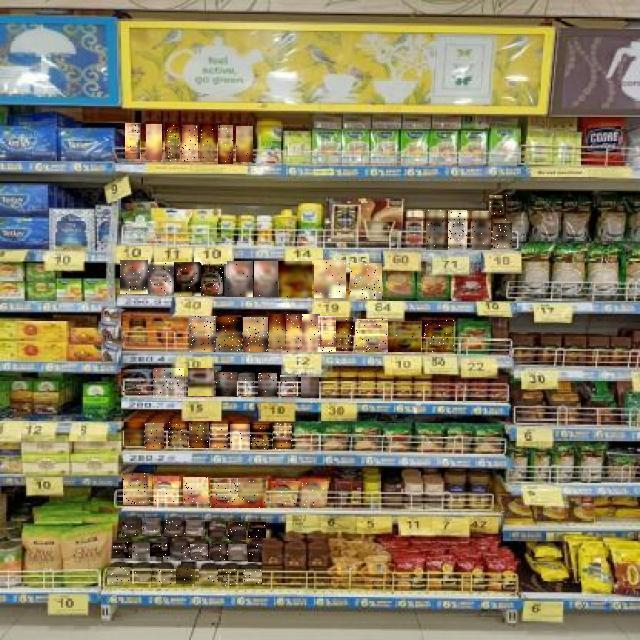Coffee: (314, 260, 346, 298), (279, 261, 312, 297), (350, 263, 382, 299), (355, 319, 388, 352), (423, 320, 455, 352), (189, 316, 217, 352), (388, 322, 421, 352), (120, 261, 148, 295), (116, 369, 150, 397), (227, 261, 253, 297), (153, 368, 184, 398), (174, 262, 201, 296), (216, 317, 242, 352), (124, 473, 152, 505), (426, 210, 448, 250), (243, 317, 268, 352), (254, 261, 278, 297), (148, 262, 174, 295), (211, 478, 239, 508), (239, 478, 267, 508), (202, 264, 228, 296), (299, 479, 327, 507), (153, 476, 179, 506), (270, 478, 296, 507), (188, 369, 214, 397), (472, 212, 491, 250), (448, 210, 467, 248), (183, 478, 208, 506), (302, 314, 320, 352), (126, 123, 144, 159), (318, 316, 336, 352), (236, 126, 253, 162), (287, 314, 303, 352), (218, 125, 233, 164), (336, 317, 353, 351), (146, 125, 162, 161), (182, 125, 198, 161), (250, 424, 272, 450), (165, 124, 180, 162), (200, 124, 215, 162), (269, 314, 285, 349), (216, 372, 238, 396), (230, 424, 250, 450), (189, 423, 209, 448), (145, 423, 164, 449), (273, 423, 292, 449), (124, 422, 144, 446), (493, 223, 512, 248), (490, 196, 508, 222), (238, 373, 258, 396), (168, 423, 187, 447), (258, 373, 277, 396), (210, 424, 228, 448), (280, 375, 298, 396), (301, 377, 319, 398), (107, 568, 130, 584), (122, 518, 141, 536), (142, 519, 161, 537), (170, 543, 190, 560), (164, 521, 185, 537), (228, 522, 246, 540), (150, 544, 170, 560), (154, 569, 174, 585), (221, 569, 239, 586), (186, 521, 205, 537), (228, 545, 247, 561), (132, 568, 151, 584), (176, 570, 195, 586), (243, 570, 262, 586), (199, 570, 218, 586), (208, 521, 226, 537), (248, 522, 266, 538), (114, 542, 132, 558), (133, 544, 151, 560), (190, 545, 208, 561), (210, 545, 228, 561), (249, 544, 263, 562)
